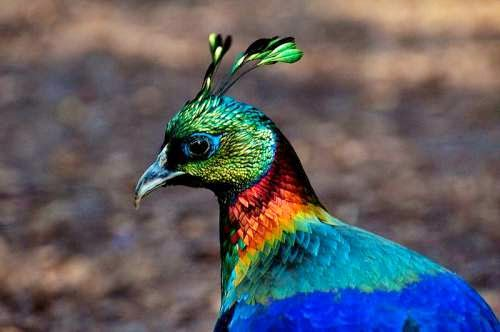bird: (132, 32, 500, 332)
